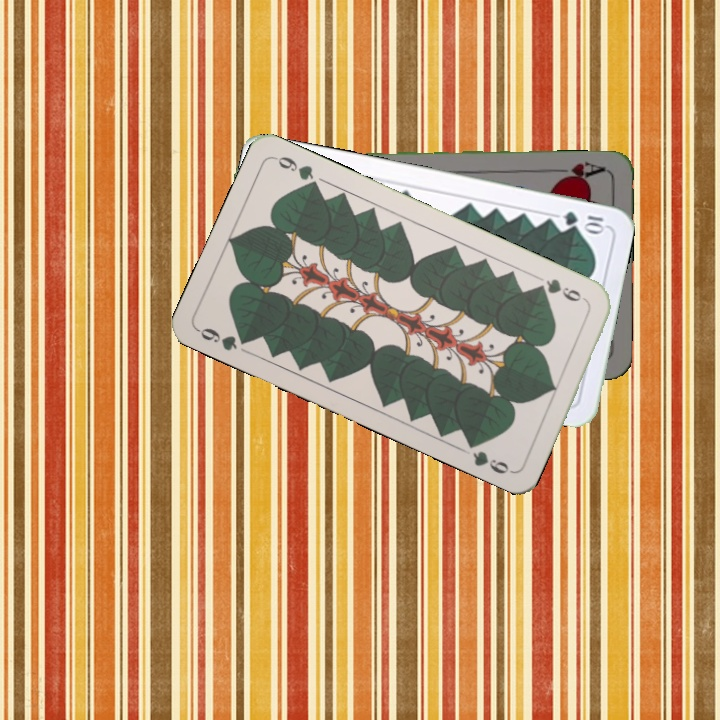G10: (559, 207, 609, 235)
G9: (193, 323, 254, 354), (532, 274, 591, 306)
HA: (549, 157, 608, 184)
